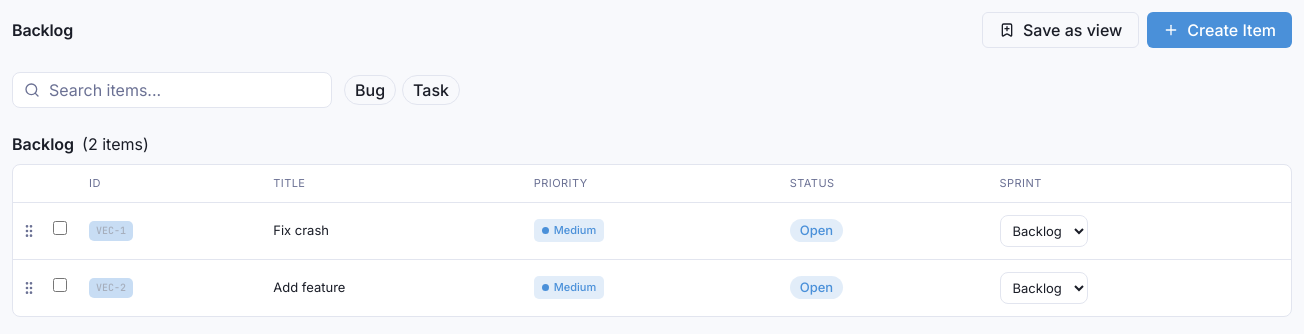
Test: BacklogPage type filter › deselecting the type restores the full list (no sticky filter)
Click the button "Bug": point(370, 90) [344,75,396,105]
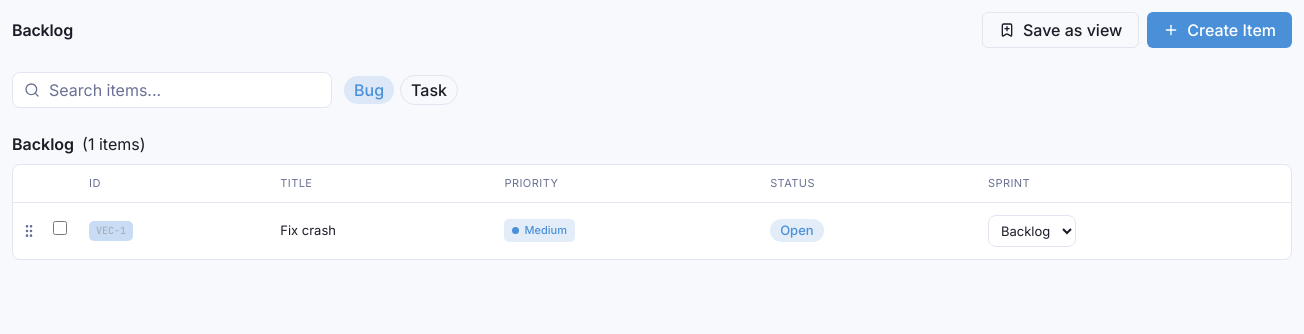
Check: the link "Add feature" is gone
Click the button "Bug": point(369, 90) [344,76,394,104]
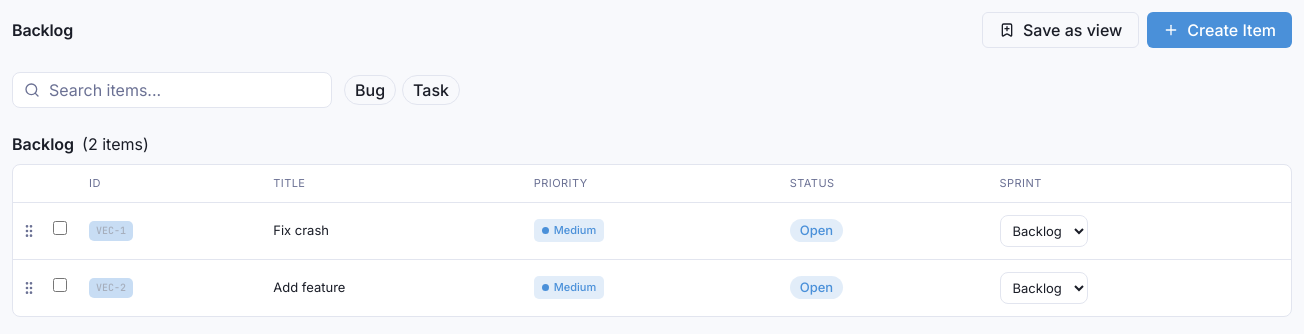
Check: the link "Add feature" is shown, box [273,279,345,295]
